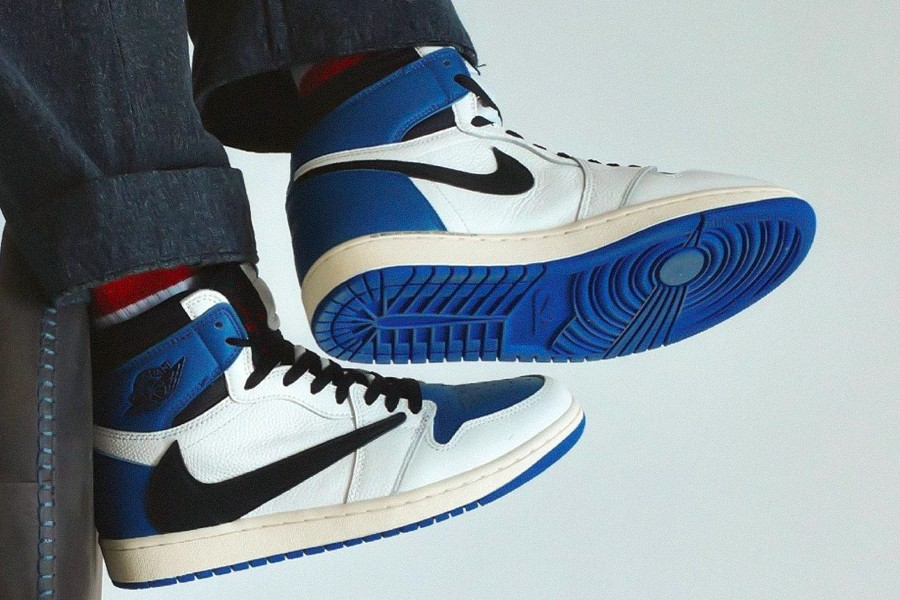Jordan 1: (279, 42, 821, 371), (84, 259, 605, 600)
